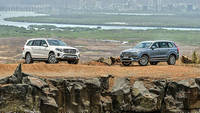car: (119, 40, 179, 66), (22, 38, 79, 65)
